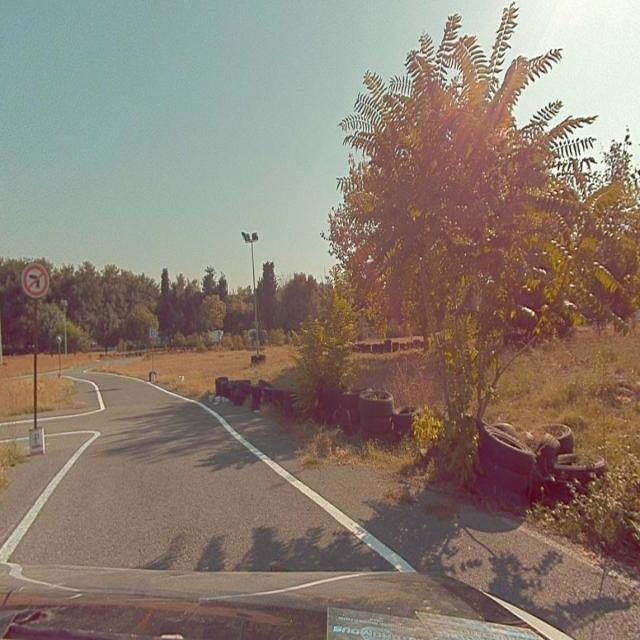durak: (151, 329, 156, 338)
soladonulmez: (21, 264, 49, 298)
